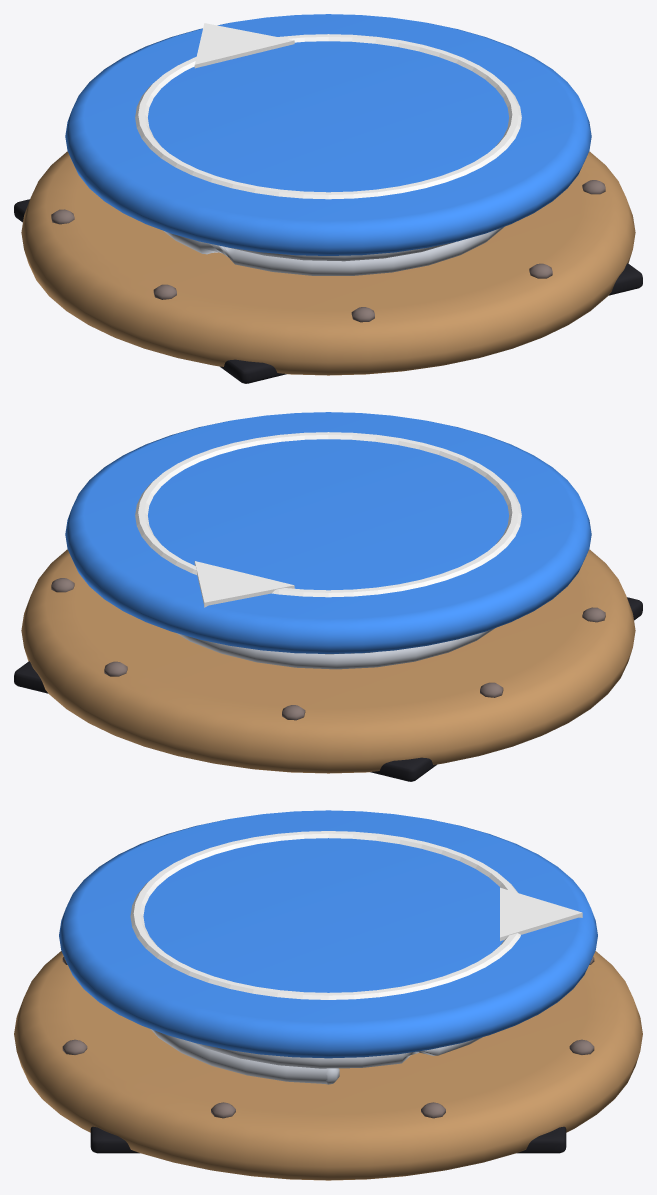
The model's file is MechaMarathonPad.obj.
3 views of the same model, one above another, from view 1: azimuth 30°, elevation 25°; view 2: azimuth 150°, elevation 25°; view 3: azimuth 270°, elevation 25° (orthographic). The views are drawn at different scales.
Parts seen in each view (by area): view 1: Top, Base, Ring, Spring, Dark, Trim; view 2: Top, Base, Ring, Spring, Dark, Trim; view 3: Top, Base, Ring, Spring, Dark, Trim.
Boxes of the visible parts, x1,y1,x2,y2 form: Top: (65,14,591,255); Base: (21,151,635,375); Ring: (135,23,521,199); Spring: (164,226,504,275); Dark: (14,199,642,383); Trim: (51,180,605,322); Top: (65,412,591,653); Base: (21,549,635,773); Ring: (135,432,521,607); Spring: (176,628,495,669); Dark: (14,597,642,781); Trim: (51,578,605,720); Top: (59,810,597,1058); Base: (14,951,642,1180); Ring: (130,831,582,999); Spring: (151,1029,482,1084); Dark: (90,1126,566,1153); Trim: (62,957,594,1118).
Size of the model in its own units: 5.32 by 1.34 by 5.32.
